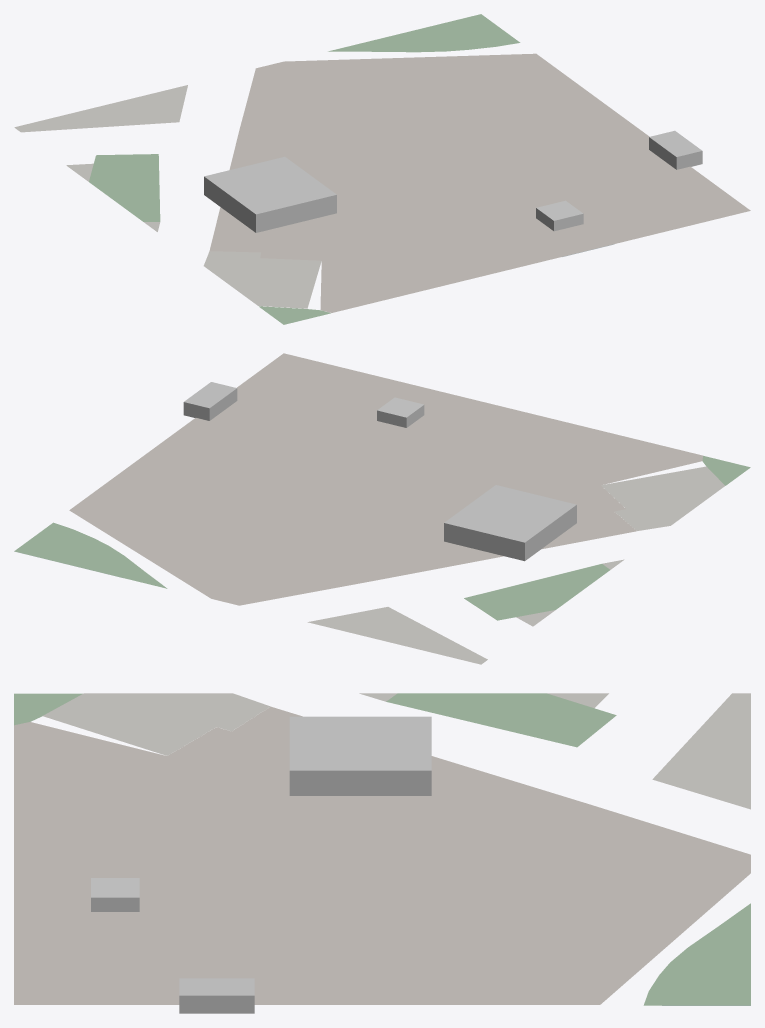
Rendered from 110_113_mid.glb.
3 renders of one model, top to bottom at view 1: azimuth 30°, elevation 25°; view 2: azimuth 150°, elevation 25°; view 3: azimuth 270°, elevation 25°, orthographic. The views are drawn at different scales.
Size of the model in its own units: 513 by 19.87 by 500.
